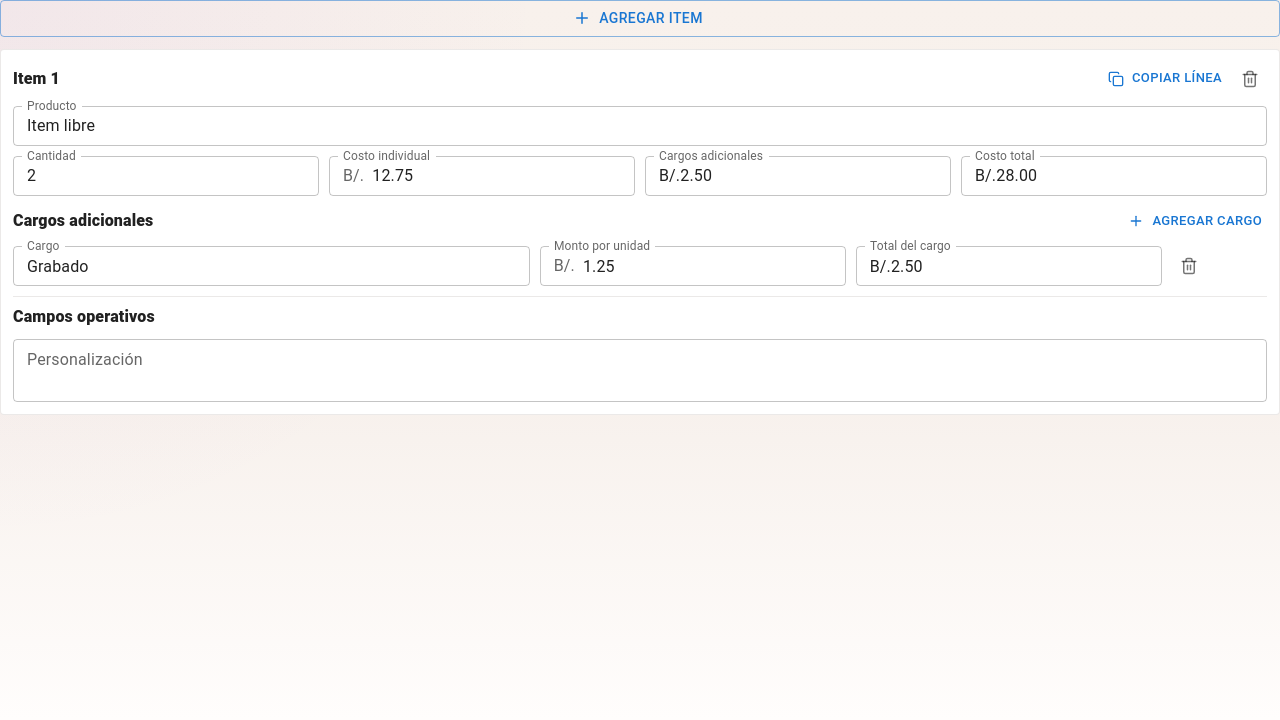
Test: OrderItemsEditor › duplicates decimal money fields without truncating them
This screenshot has width=1280, height=720.
Click the button "Copiar línea" at (1166, 78), box 1105,63 -> 1227,94
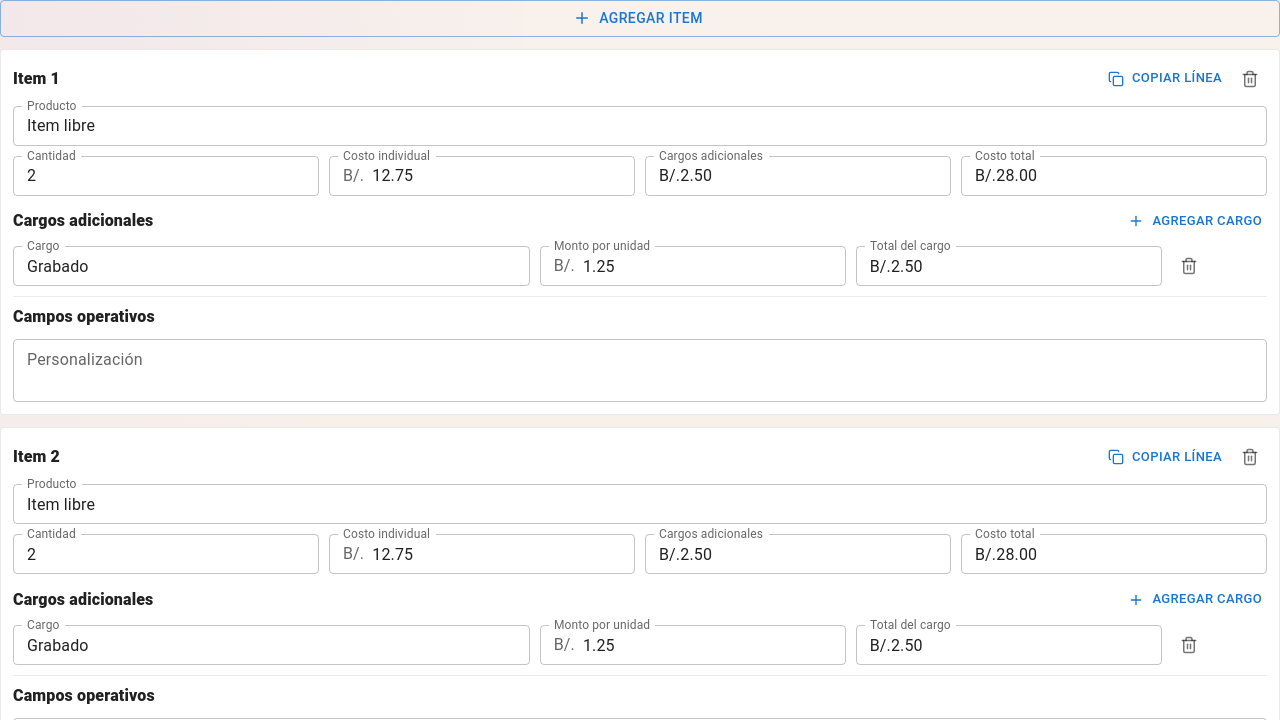
Expected: the number of fields labelled "Costo individual" is 2, 372,156 -> 635,196; 372,534 -> 635,574
Expected: the 2nd field labelled "Costo individual" holds "12.75", 372,534 -> 635,574
Expected: the 2nd field labelled "Monto por unidad" holds "1.25", 583,625 -> 846,665
